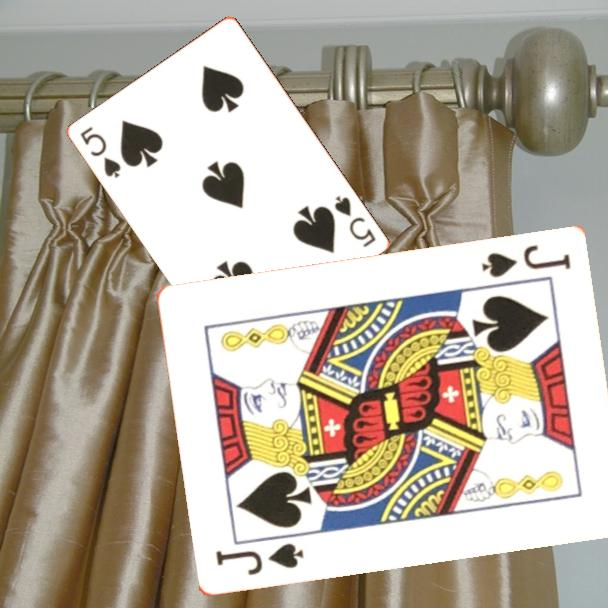s05: (331, 192, 379, 250), (77, 123, 124, 181)
s11: (212, 540, 307, 579), (478, 242, 573, 281)
